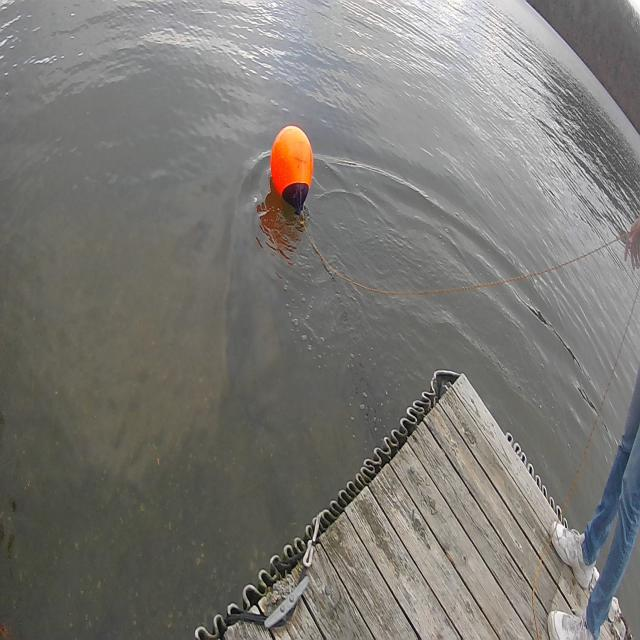Buoy: (269, 118, 319, 214)
